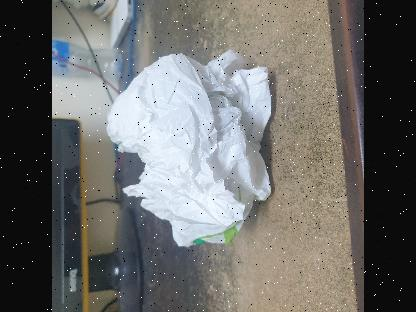Others: (102, 36, 288, 250)
